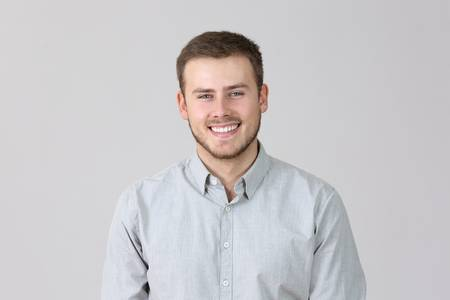F_shirt: (109, 142, 364, 300)
